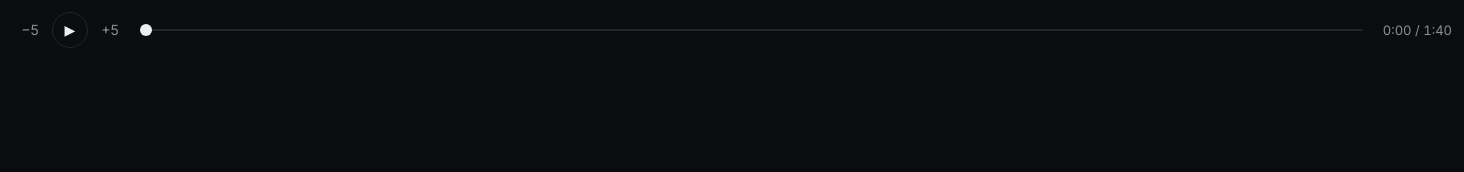
Test case: Player › seeking beyond the duration clamps to it, and the range seeks
The image size is (1464, 172).
Click the button named "5 saniye ileri" at (110, 30), box [92, 12, 128, 48]
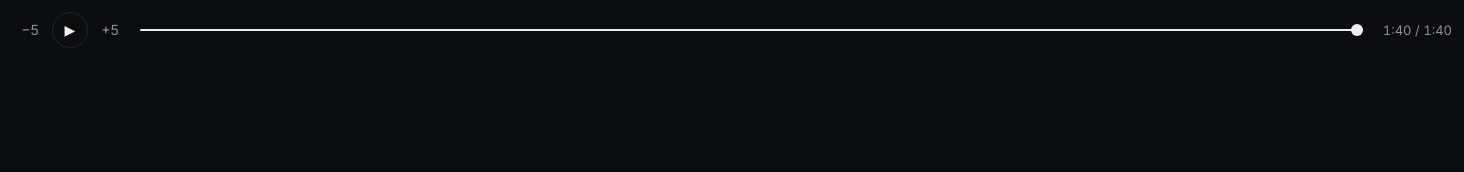
Set the slider named "Konum" to "42" at (655, 30), box [140, 20, 1363, 40]
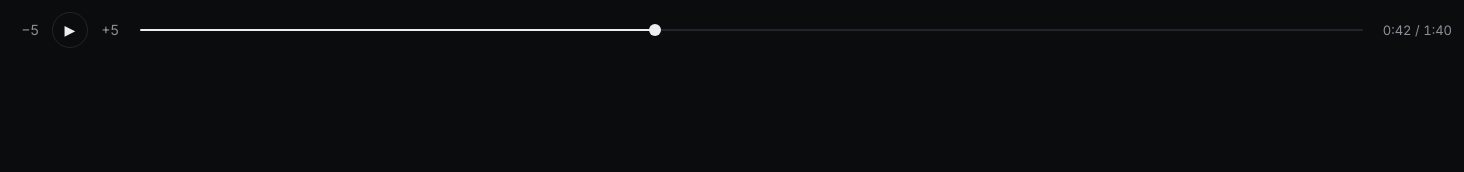
Expected: the text "0:42 / 1:40" is shown, [1383, 21, 1452, 39]
